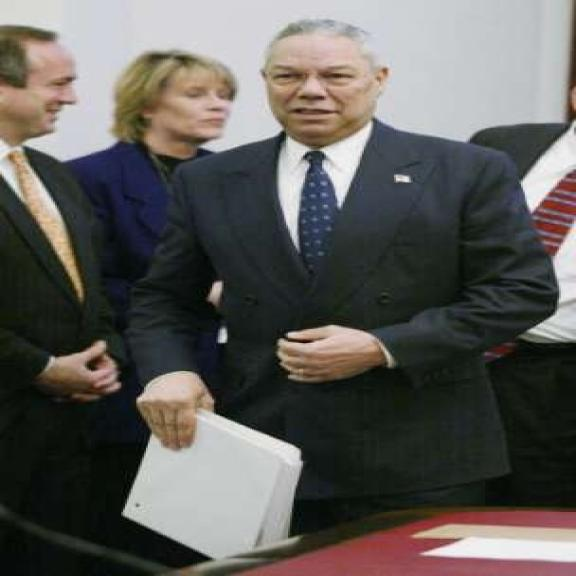face: (258, 49, 394, 144), (0, 34, 78, 137), (132, 60, 234, 136)
